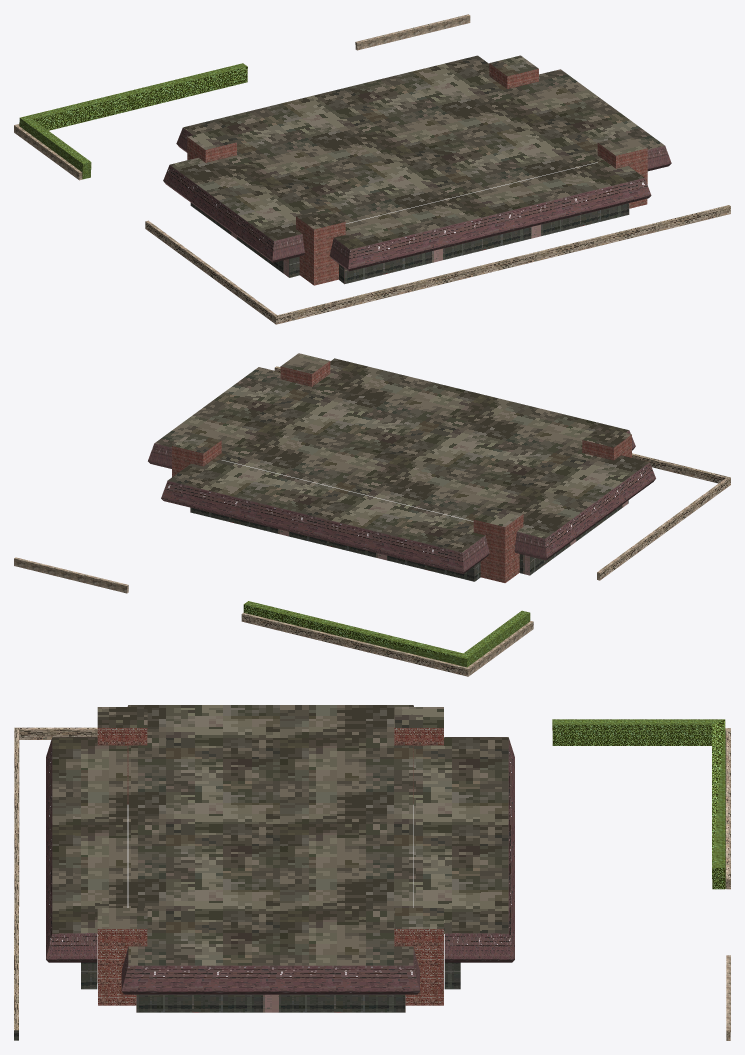
Rendered from lodnvgnbild1.obj.
3 renders of one model, top to bottom at view 1: azimuth 30°, elevation 25°; view 2: azimuth 150°, elevation 25°; view 3: azimuth 270°, elevation 25°, orthographic. The views are drawn at different scales.
Parts seen in each view (by area): view 1: lodnvgnbild1; view 2: lodnvgnbild1; view 3: lodnvgnbild1.
Part boxes in pixels (bbox=[...]): lodnvgnbild1: bbox=[14, 14, 730, 324]; lodnvgnbild1: bbox=[14, 353, 730, 676]; lodnvgnbild1: bbox=[14, 705, 730, 1040].
Size of the model in its own units: 79.93 by 9.42 by 79.93.
Materials: 6 (6 with a texture image).
